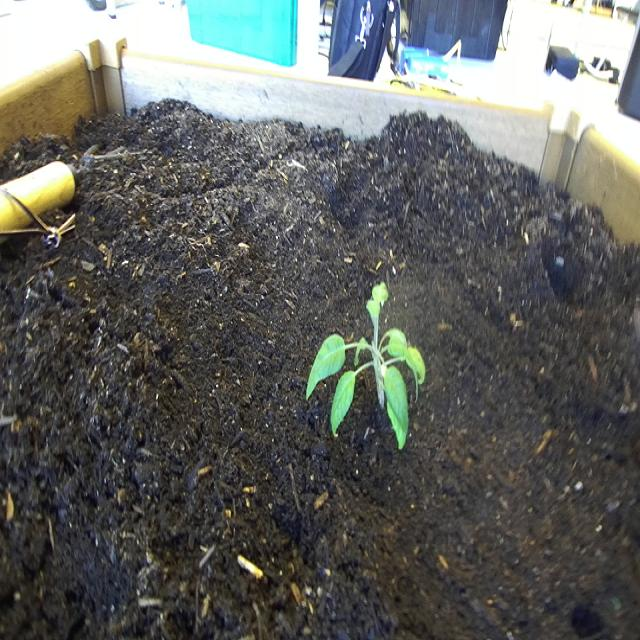Healthy: (307, 278, 427, 464)
